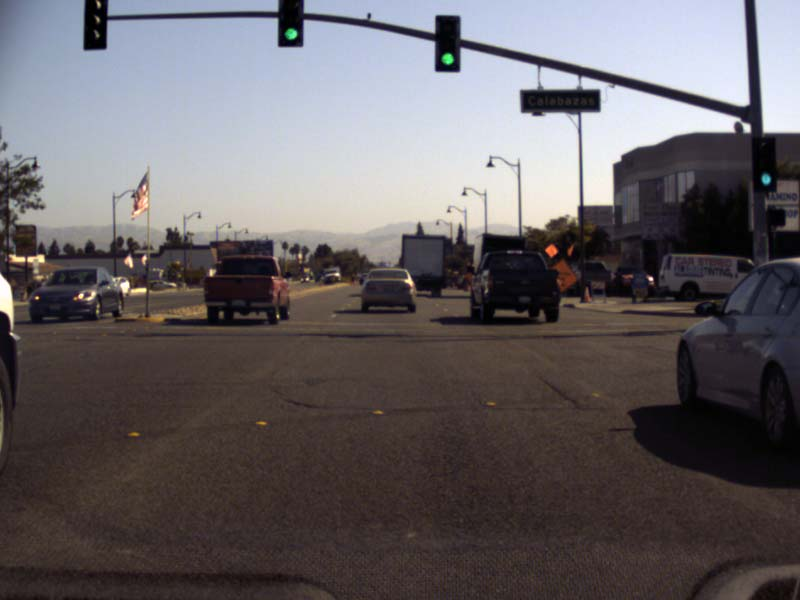Green: (752, 136, 776, 193), (436, 15, 459, 70)
